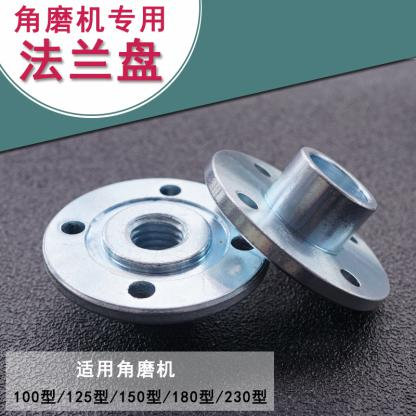FOD: (38, 171, 272, 319), (203, 139, 395, 310)
